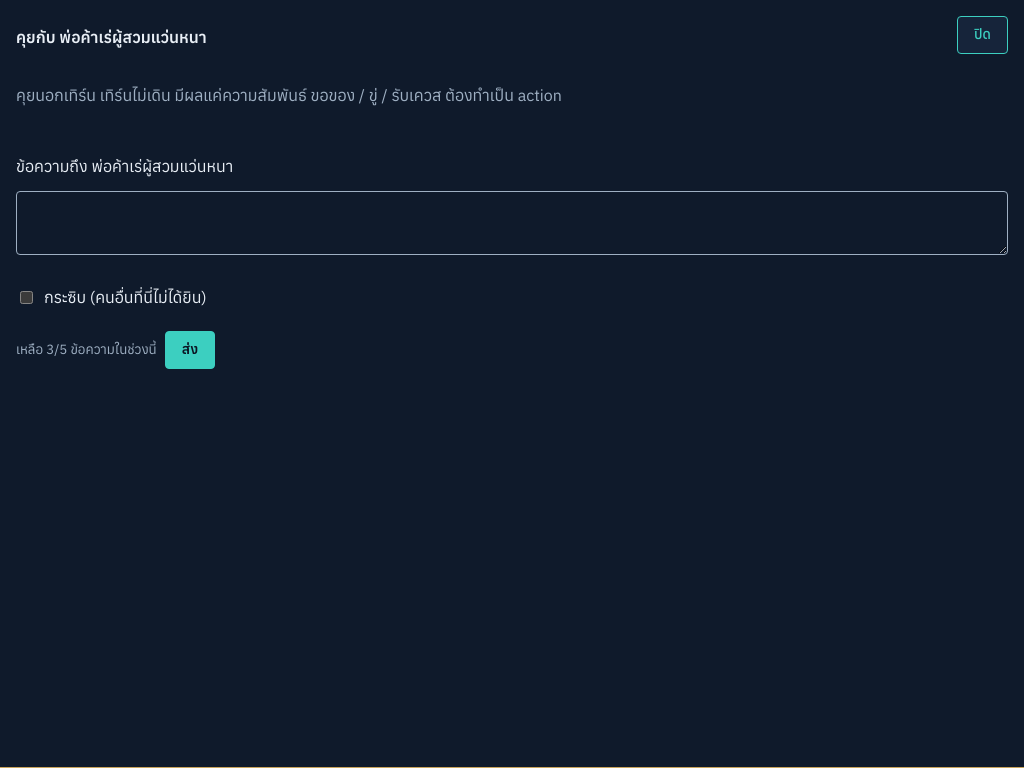
Test: GEN-149 NPC chat (web) › C3: a suggestion to act is shown under the reply; a whisper is sent as one
Expected: the text "เหลือ 3/5 ข้อความในช่วงนี้" is shown, x1=16 y1=339 x2=157 y2=361
Click the checkbox labelled "กระซิบ (คนอื่นที่นี่ไม่ได้ยิน)" at (26, 297), box x1=20 y1=291 x2=33 y2=304
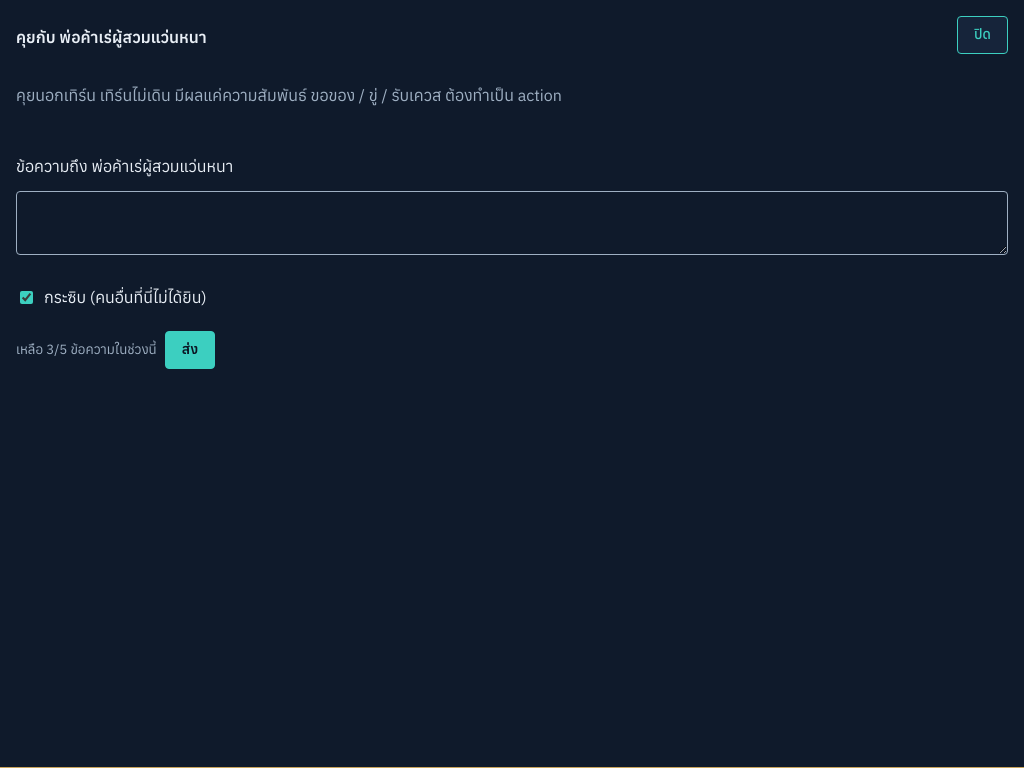
Type "ขอดาบหน่อย" into the text box labelled "ข้อความถึง พ่อค้าเร่ผู้สวมแว่นหนา" at (512, 223), box x1=16 y1=191 x2=1008 y2=255
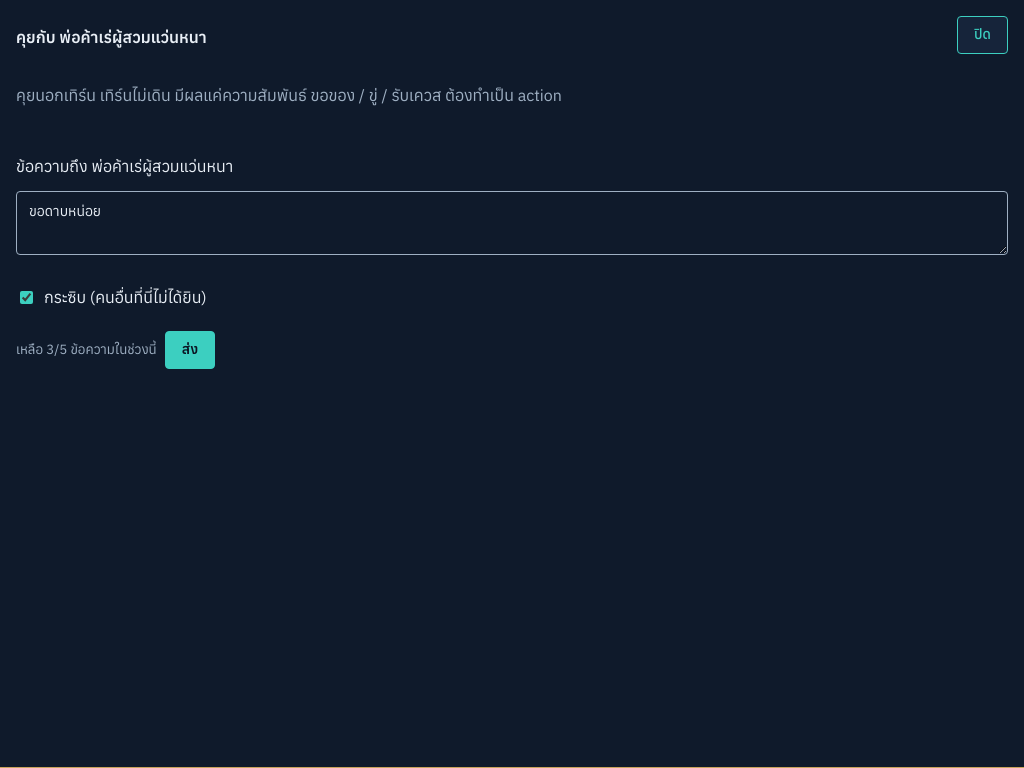
Click the button "ส่ง" at (190, 350), box x1=165 y1=331 x2=215 y2=369
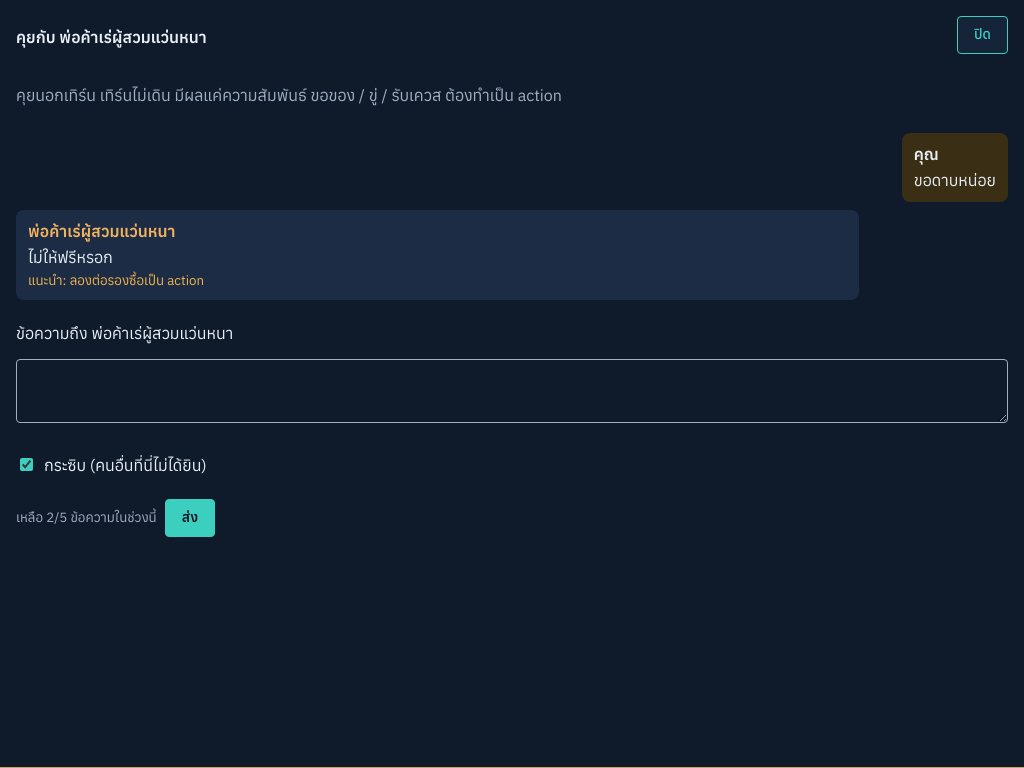
Expected: the text "แนะนำ: ลองต่อรองซื้อเป็น action" is shown, x1=28 y1=271 x2=204 y2=289
